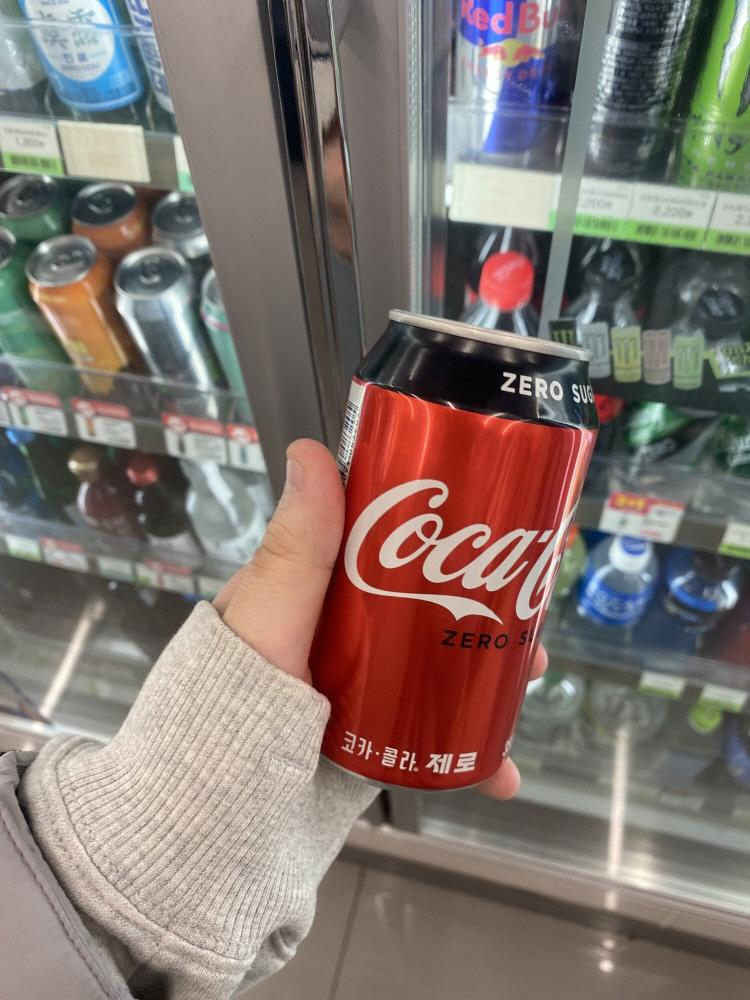cocacola_zero: (301, 298, 557, 842)
